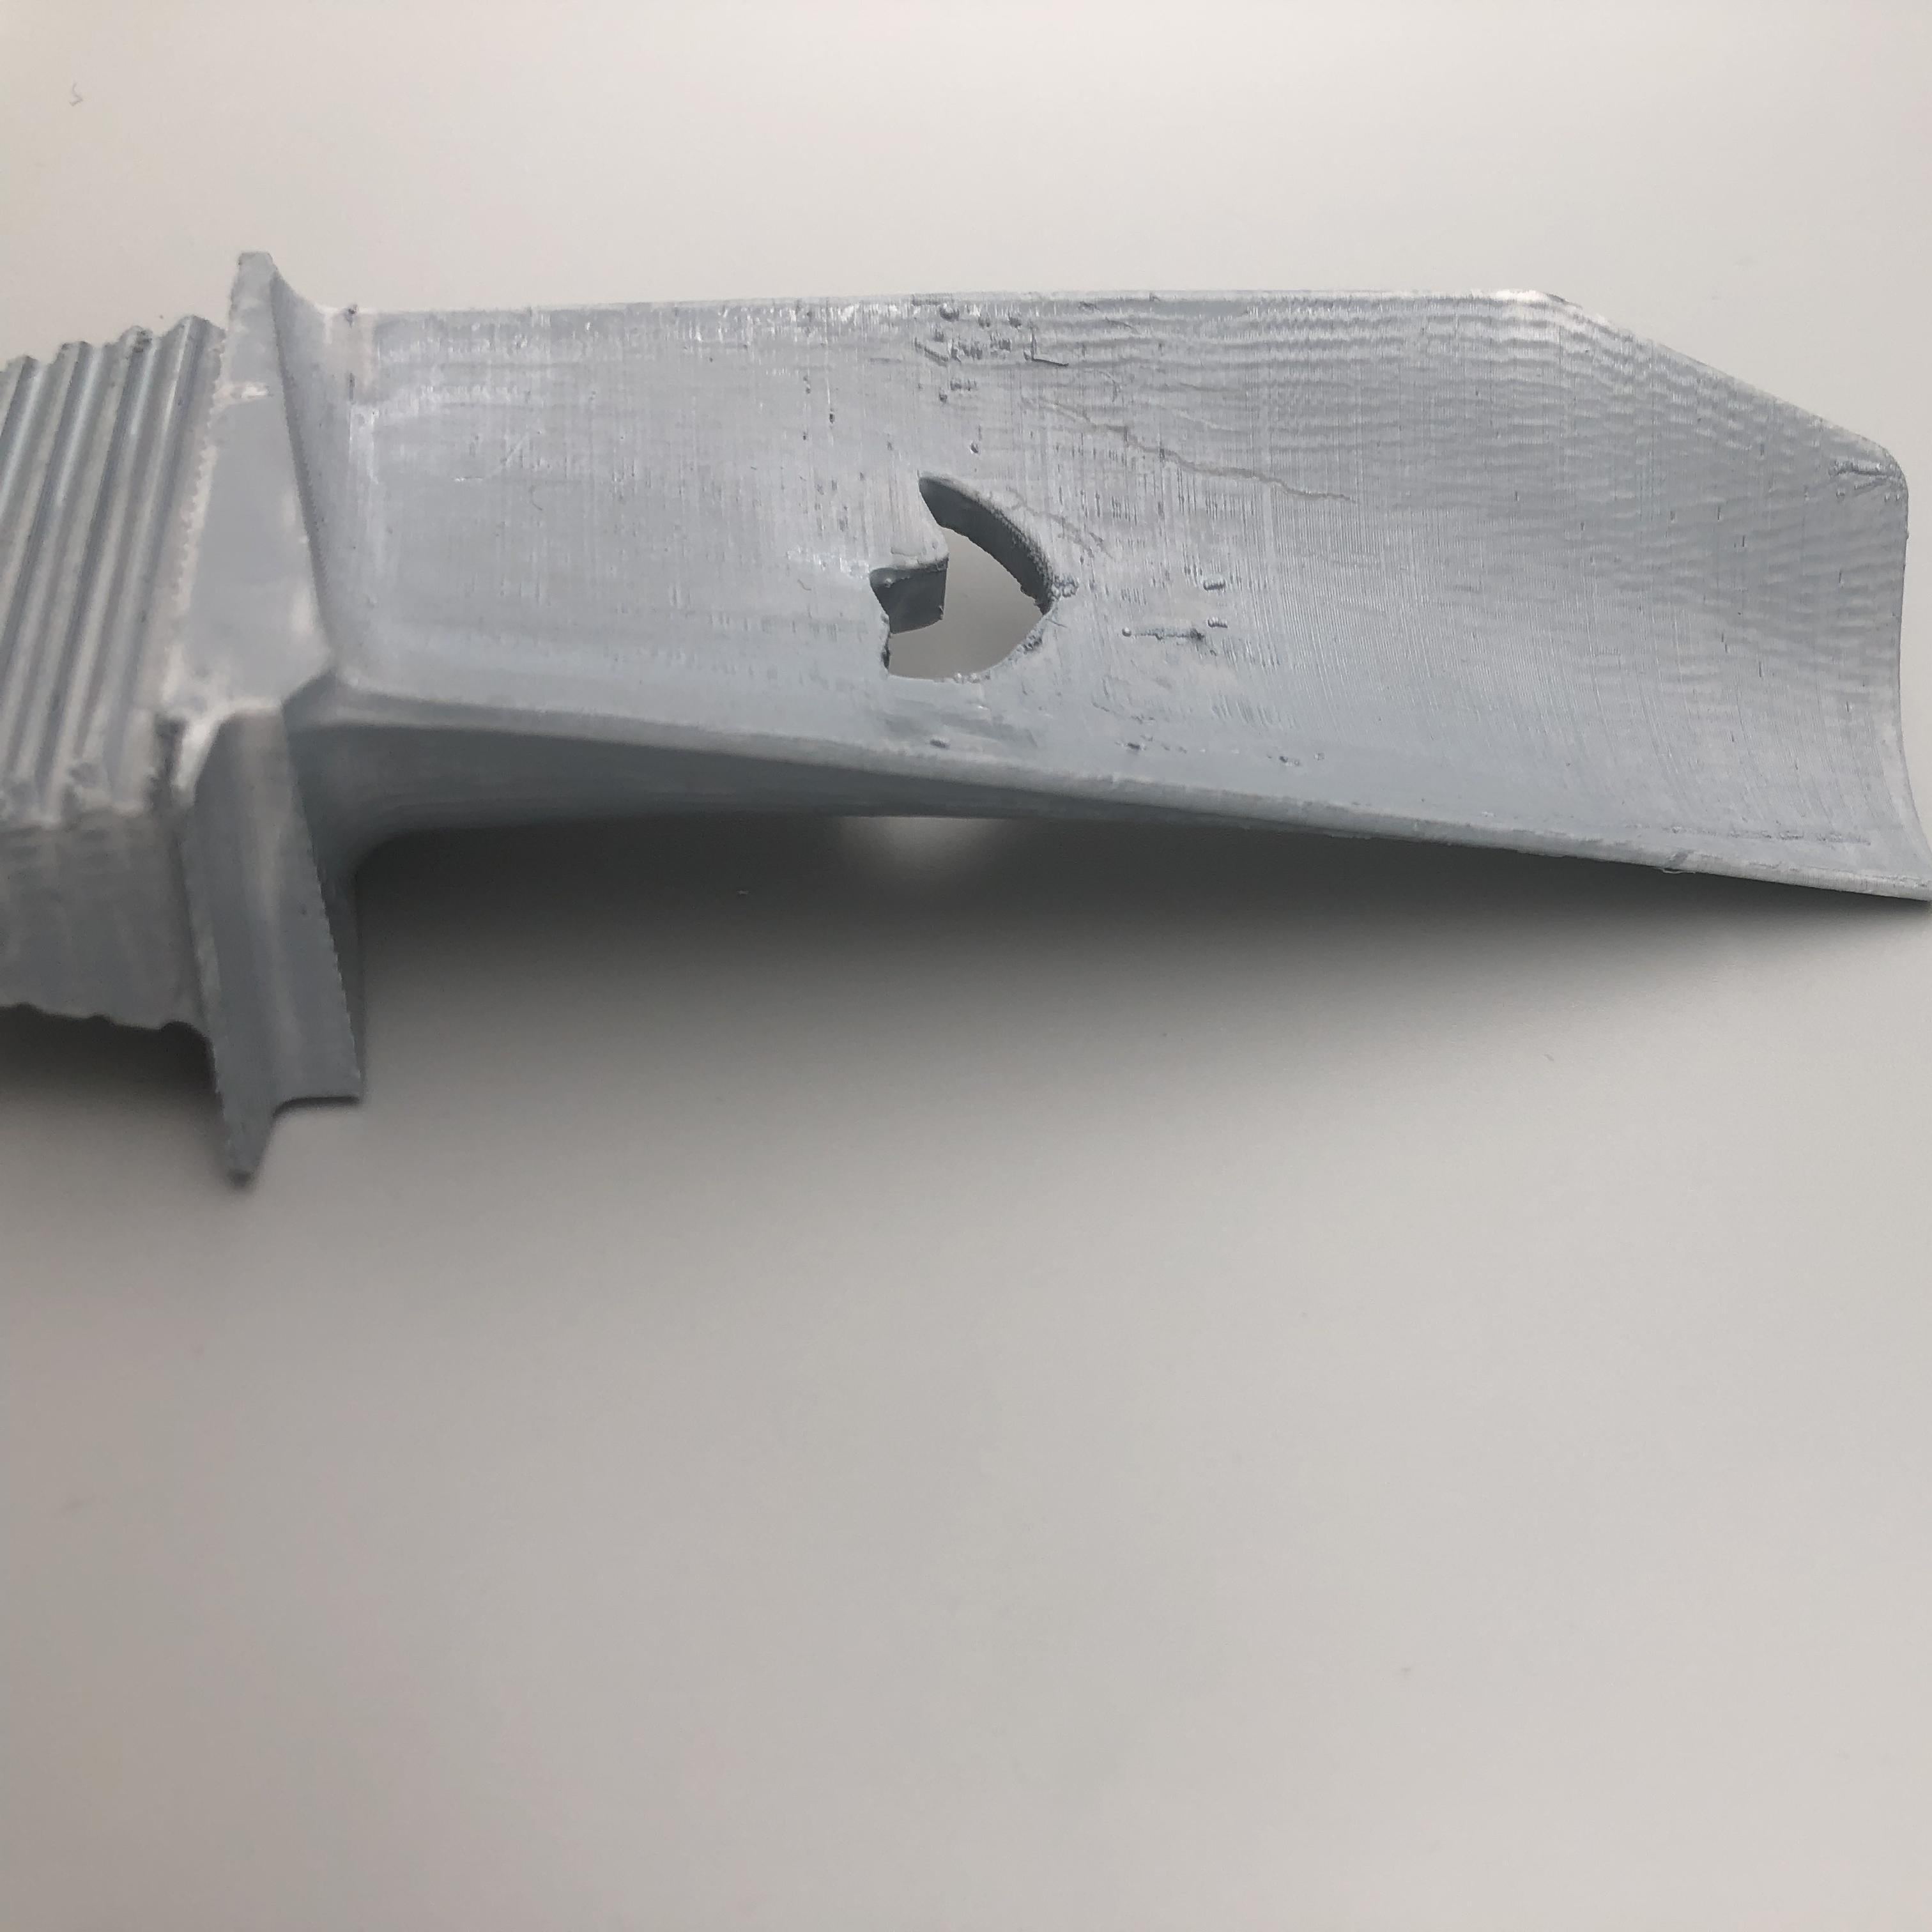breakdown: (849, 456, 1092, 685)
